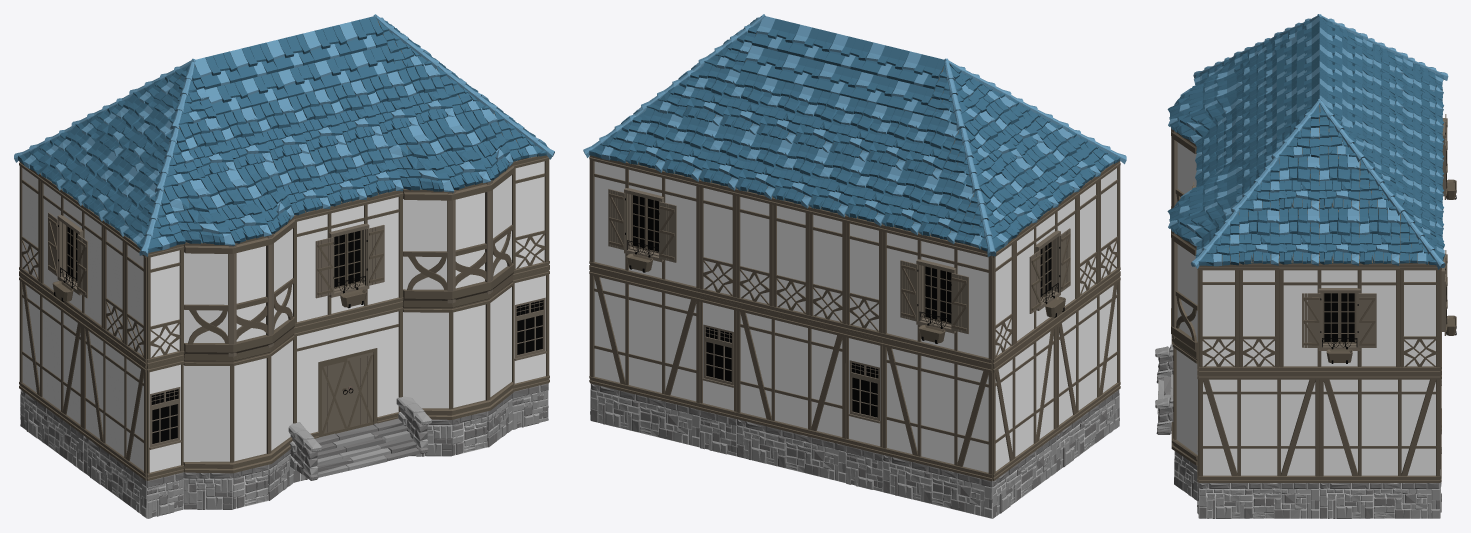
The model's file is house_14_full.fbx.
3 renders of one model, left to right at view 1: azimuth 30°, elevation 25°; view 2: azimuth 150°, elevation 25°; view 3: azimuth 270°, elevation 25°, orthographic. The views are drawn at different scales.
Visible parts, largest first — view 1: WINDOW_05_2, WINDOW_01_Balkon_2, WINDOW_02_Balkon_2, WINDOW_02_Balkon_3, WINDOW_01_Balkon_3, DOOR_03_2, ROOF_base_round_3, ROOF_base_round_2, WALL_02_2, WINDOW_05_6, WALL_02_3, STAIRS_02_2 (+48 smaller); view 2: WINDOW_05_5, WALL_02_4, WALL_02_5, WALL_02_6, WINDOW_05_4, WALL_02_3, WINDOW_05_6, WALL_02_2, WALL_04_11, WALL_04_9, WALL_04_8, WALL_04_10 (+54 smaller); view 3: WALL_02_7, WINDOW_05_3, WALL_02_8, WALL_04_14, WALL_04_13, WALL_04_15, FOUNDATION_02_26, FOUNDATION_02_25, ROOF_base_round_3, ROOF_base_round_2, WINDOW_02_Balkon_3, WINDOW_01_Balkon_3 (+69 smaller).
Boxes of the visible parts, x1=… form: WINDOW_05_2: x1=293, y1=190, x2=403, y2=330; WINDOW_01_Balkon_2: x1=183, y1=331, x2=294, y2=473; WINDOW_02_Balkon_2: x1=183, y1=216, x2=294, y2=358; WINDOW_02_Balkon_3: x1=403, y1=163, x2=513, y2=304; WINDOW_01_Balkon_3: x1=402, y1=278, x2=513, y2=419; DOOR_03_2: x1=293, y1=304, x2=403, y2=438; ROOF_base_round_3: x1=382, y1=108, x2=513, y2=192; ROOF_base_round_2: x1=164, y1=161, x2=294, y2=245; WALL_02_2: x1=82, y1=320, x2=146, y2=480; WINDOW_05_6: x1=40, y1=174, x2=104, y2=334; WALL_02_3: x1=19, y1=274, x2=83, y2=433; STAIRS_02_2: x1=288, y1=396, x2=431, y2=480; WINDOW_05_5: x1=882, y1=224, x2=992, y2=366; WALL_02_4: x1=882, y1=340, x2=992, y2=481; WALL_02_5: x1=736, y1=304, x2=846, y2=445; WALL_02_6: x1=590, y1=268, x2=700, y2=409; WINDOW_05_4: x1=590, y1=155, x2=699, y2=295; WALL_02_3: x1=992, y1=320, x2=1057, y2=480; WINDOW_05_6: x1=1014, y1=192, x2=1078, y2=350; WALL_02_2: x1=1056, y1=274, x2=1120, y2=434; WALL_04_11: x1=736, y1=189, x2=773, y2=312; WALL_04_9: x1=809, y1=207, x2=846, y2=330; WALL_04_8: x1=845, y1=215, x2=882, y2=339; WALL_04_10: x1=772, y1=198, x2=809, y2=321; WALL_02_7: x1=1319, y1=373, x2=1440, y2=482; WINDOW_05_3: x1=1279, y1=263, x2=1399, y2=373; WALL_02_8: x1=1199, y1=373, x2=1319, y2=482; WALL_04_14: x1=1239, y1=263, x2=1279, y2=373; WALL_04_13: x1=1400, y1=263, x2=1440, y2=373; WALL_04_15: x1=1199, y1=264, x2=1239, y2=373; FOUNDATION_02_26: x1=1319, y1=483, x2=1440, y2=518; FOUNDATION_02_25: x1=1199, y1=483, x2=1319, y2=518; ROOF_base_round_3: x1=1167, y1=158, x2=1237, y2=246; ROOF_base_round_2: x1=1167, y1=56, x2=1236, y2=143; WINDOW_02_Balkon_3: x1=1171, y1=230, x2=1197, y2=355; WINDOW_01_Balkon_3: x1=1171, y1=340, x2=1197, y2=465.
Size of the model in its own units: 1182 by 1012 by 750.
